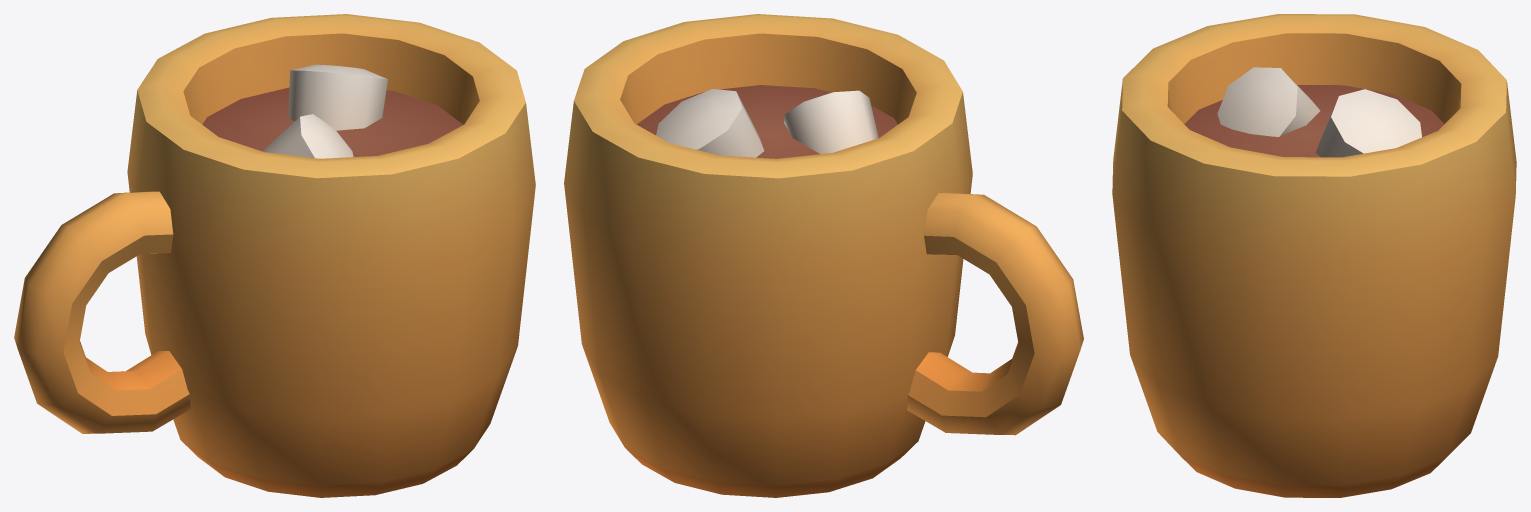
The model's file is hot_chocolate.obj.
3 renders of one model, left to right at view 1: azimuth 30°, elevation 25°; view 2: azimuth 150°, elevation 25°; view 3: azimuth 270°, elevation 25°, orthographic.
Visible parts, largest first — view 1: hot_chocolate; view 2: hot_chocolate; view 3: hot_chocolate.
Part boxes in pixels (x1,y1,x2,y2): hot_chocolate: [14, 14, 535, 497]; hot_chocolate: [564, 14, 1083, 497]; hot_chocolate: [1112, 14, 1516, 497].
Size of the model in its own units: 0.6234 by 0.4299 by 0.4459.
Materials: 1 (1 with a texture image).
